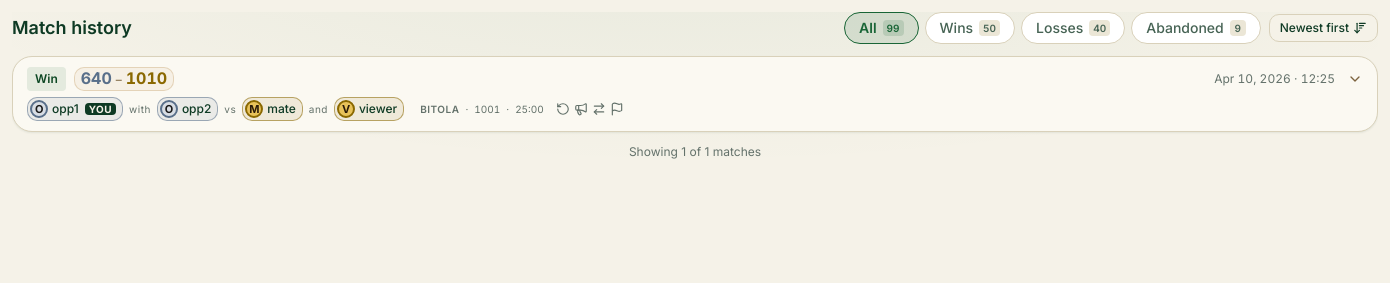
Scenario: MatchHistory › renders failed-contract pill as 'Them' when viewer was NOT on the contracting team
Click the button named "Show hand details" at (1355, 79), box x1=1343 y1=67 x2=1367 y2=91
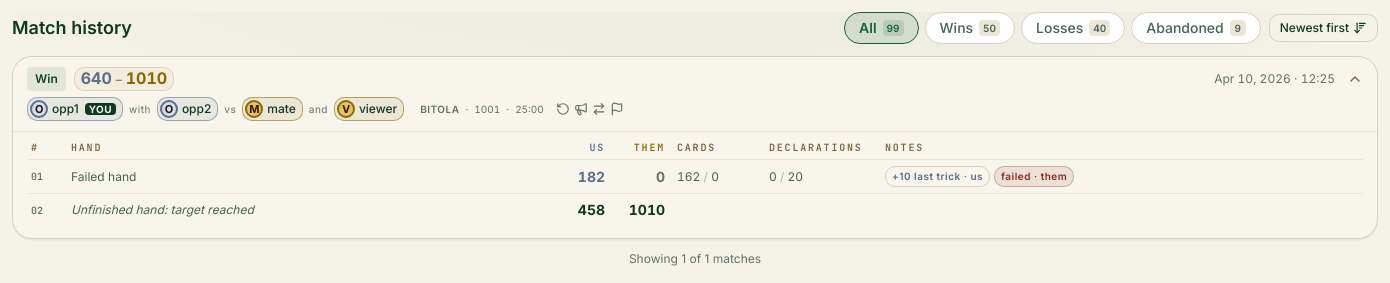
expect the text with test id "match-history-hand-failed" shows "them": met, box x1=1001 y1=170 x2=1067 y2=182
